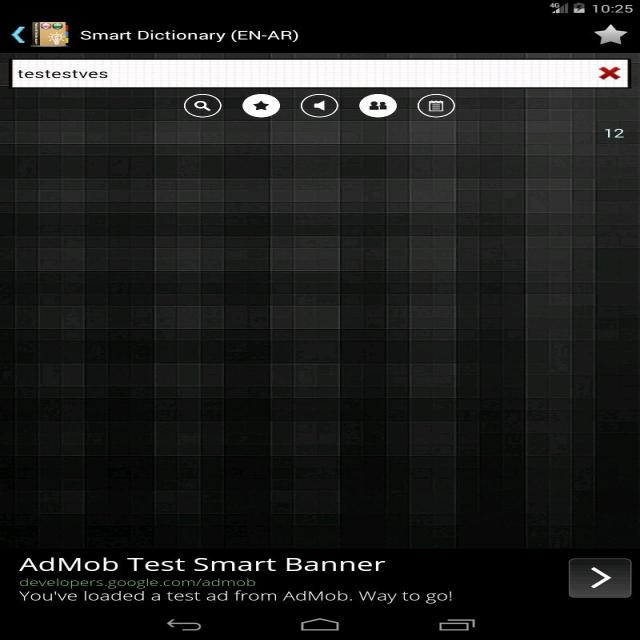button: (413, 91, 459, 121), (242, 89, 282, 123), (298, 90, 342, 118), (357, 93, 399, 121), (181, 94, 224, 118), (587, 25, 630, 49), (589, 62, 627, 89), (8, 23, 29, 50)
field: (13, 59, 625, 87)
heading: (74, 26, 315, 44)
iframe: (1, 546, 640, 608)
image: (564, 555, 636, 601), (31, 20, 74, 52)
text: (10, 555, 462, 604), (16, 65, 117, 81)
